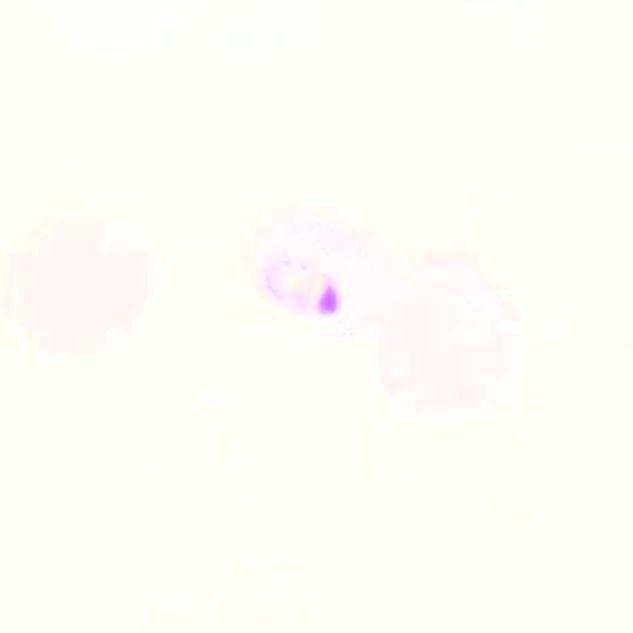Infected: (242, 203, 396, 341)
